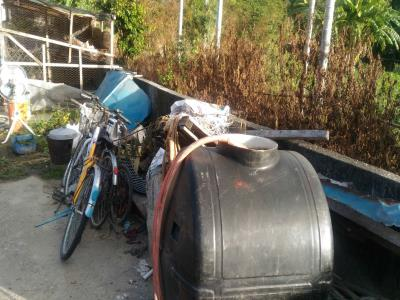box: (93, 70, 152, 127)
bucket: (153, 133, 336, 293), (45, 126, 78, 167)
